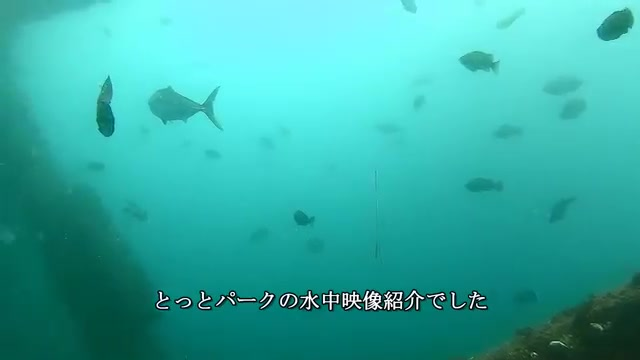smallfish: (142, 78, 243, 138), (592, 6, 640, 46), (455, 48, 510, 79), (493, 120, 547, 150), (536, 76, 599, 98), (460, 172, 507, 198), (557, 101, 602, 125), (292, 207, 318, 229)
